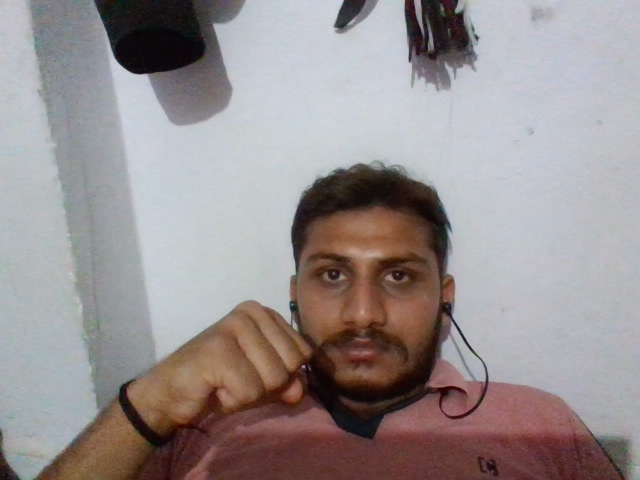Yes: (127, 284, 331, 418)
